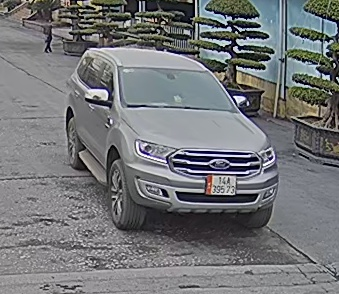vehicle plate: (205, 170, 239, 196)
